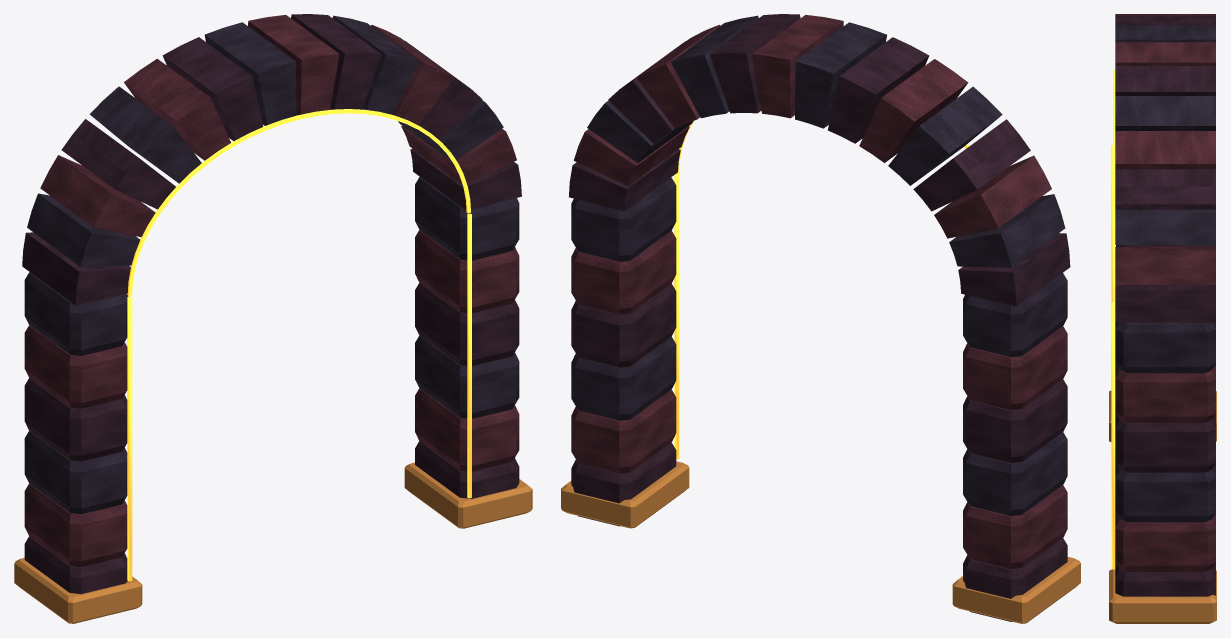
The model's file is arch.glb.
3 views of the same model, side by side, from view 1: azimuth 30°, elevation 25°; view 2: azimuth 150°, elevation 25°; view 3: azimuth 270°, elevation 25° (orthographic). The views are drawn at different scales.
Parts seen in each view (by area): view 1: arch · Red-veined basalt, arch · Smoky slate, arch · Wine basalt, arch · Hammered gold, arch · Gold ember trim; view 2: arch · Red-veined basalt, arch · Smoky slate, arch · Wine basalt, arch · Hammered gold, arch · Gold ember trim; view 3: arch · Red-veined basalt, arch · Wine basalt, arch · Smoky slate, arch · Hammered gold, arch · Gold ember trim.
Boxes of the visible parts, box(x1,y1,x2,y2) form: arch · Red-veined basalt: box(24, 15, 519, 566); arch · Smoky slate: box(24, 15, 519, 514); arch · Wine basalt: box(22, 14, 521, 594); arch · Hammered gold: box(14, 462, 532, 623); arch · Gold ember trim: box(127, 109, 471, 581); arch · Red-veined basalt: box(571, 15, 1067, 568); arch · Smoky slate: box(571, 15, 1067, 515); arch · Wine basalt: box(569, 14, 1070, 621); arch · Hammered gold: box(561, 461, 1080, 623); arch · Gold ember trim: box(674, 121, 969, 459); arch · Red-veined basalt: box(1115, 14, 1215, 571); arch · Wine basalt: box(1115, 15, 1215, 596); arch · Smoky slate: box(1115, 25, 1215, 522); arch · Hammered gold: box(1109, 390, 1216, 623); arch · Gold ember trim: box(1111, 70, 1115, 569).
Size of the model in its own units: 5.62 by 5.87 by 1.2.
5 materials, 3 textured.
